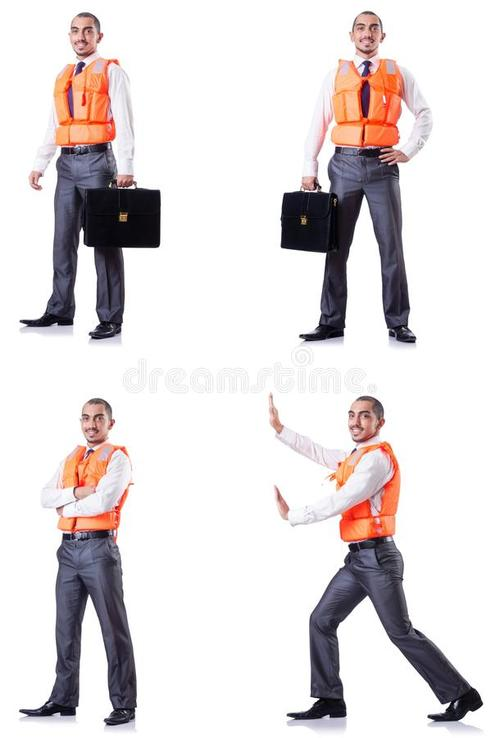reflective_clothes: (317, 50, 419, 154), (323, 434, 405, 548), (49, 433, 124, 540), (51, 54, 127, 157)
